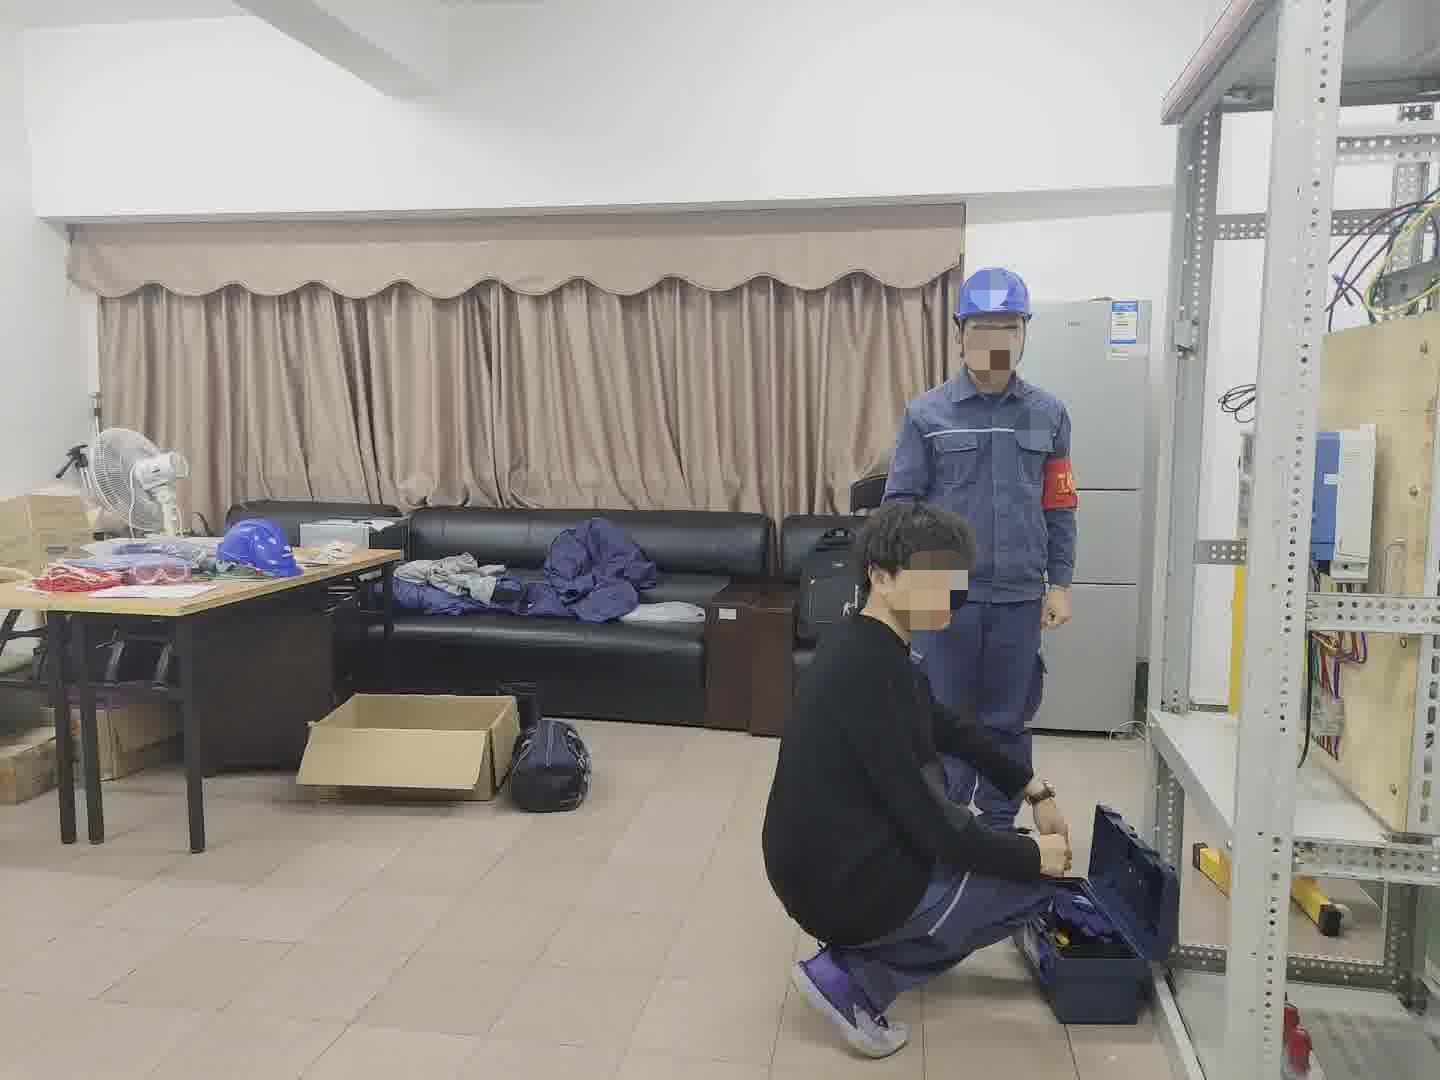halt: (952, 267, 1039, 385)
noear: (866, 562, 909, 616)
unhalt: (857, 504, 980, 636)
